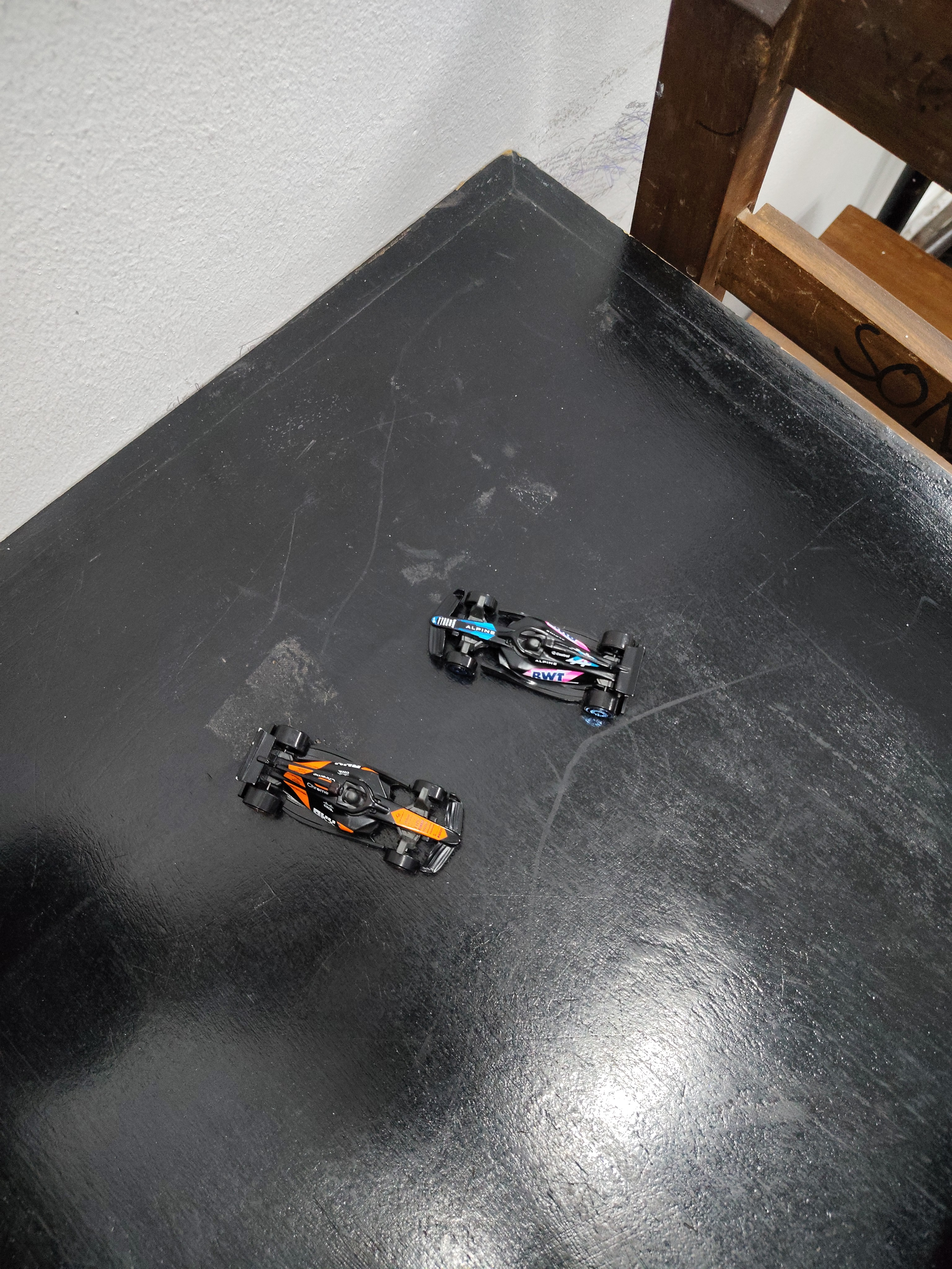Alpine A524: (390, 550, 665, 750)
McLaren MCL40: (223, 646, 473, 916)
